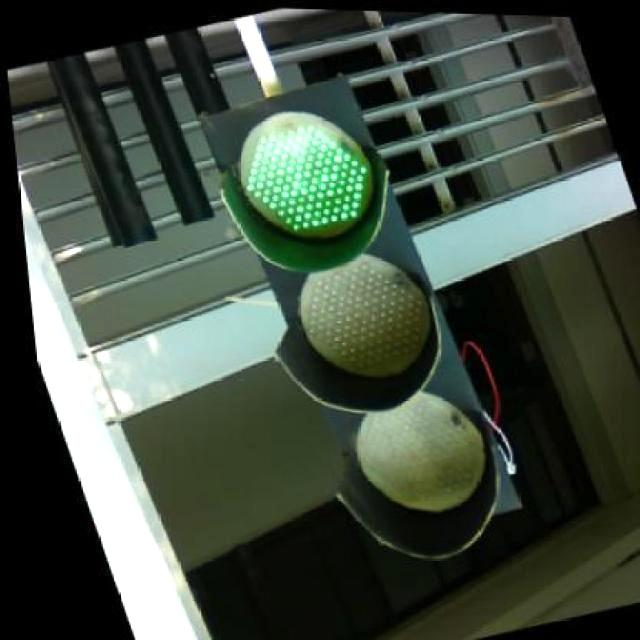Green: (200, 93, 526, 538)
